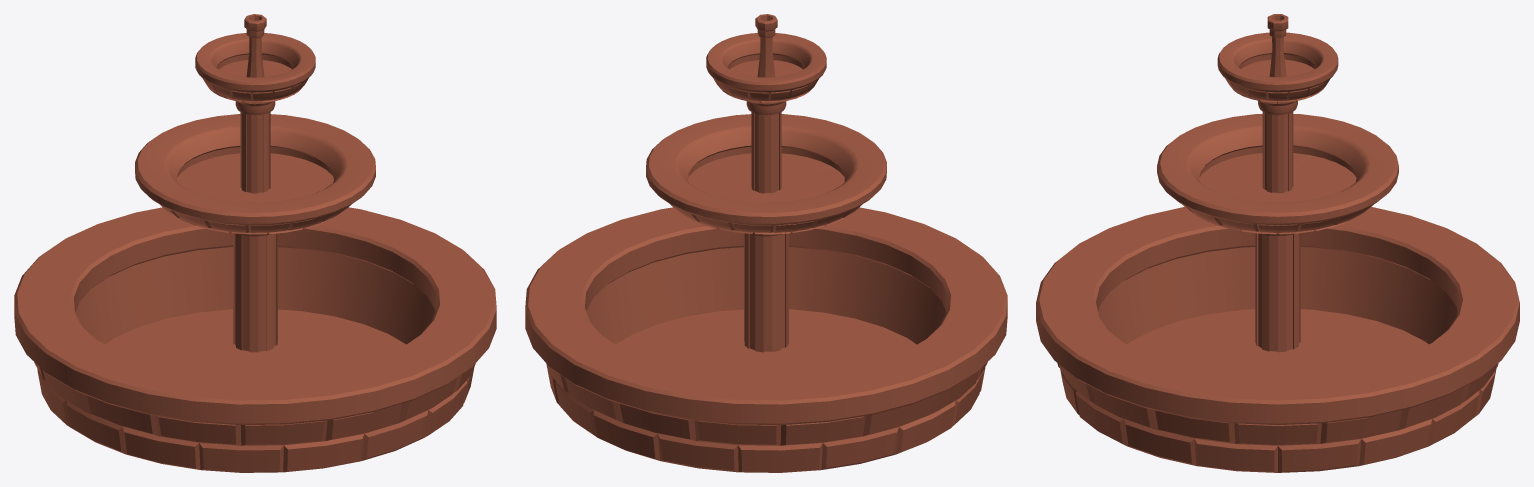
Rendered from mdl_poland_fountain.gltf.
The picture shows the model from 3 angles, left to right: view 1: azimuth 30°, elevation 25°; view 2: azimuth 150°, elevation 25°; view 3: azimuth 270°, elevation 25°; orthographic projection.
Visible parts, largest first — view 1: Circle.001, Circle.002, Circle.003, Cylinder.004, Cylinder.005, Cylinder.006; view 2: Circle.001, Circle.002, Circle.003, Cylinder.004, Cylinder.005, Cylinder.006; view 3: Circle.001, Circle.002, Circle.003, Cylinder.004, Cylinder.005, Cylinder.006.
Boxes of the visible parts, x1,y1,x2,y2 form: Circle.001: (14,207,496,472); Circle.002: (135,114,375,236); Circle.003: (195,33,315,115); Cylinder.004: (233,233,277,352); Cylinder.005: (240,112,270,193); Cylinder.006: (244,14,266,77); Circle.001: (525,207,1007,472); Circle.002: (646,114,886,236); Circle.003: (706,33,826,115); Cylinder.004: (744,233,788,352); Cylinder.005: (751,112,781,193); Cylinder.006: (755,14,777,77); Circle.001: (1036,207,1519,472); Circle.002: (1157,114,1398,235); Circle.003: (1217,32,1338,114); Cylinder.004: (1255,233,1300,352); Cylinder.005: (1262,112,1293,193); Cylinder.006: (1267,14,1288,77).
Size of the model in its own units: 3.21 by 2.67 by 3.21.
